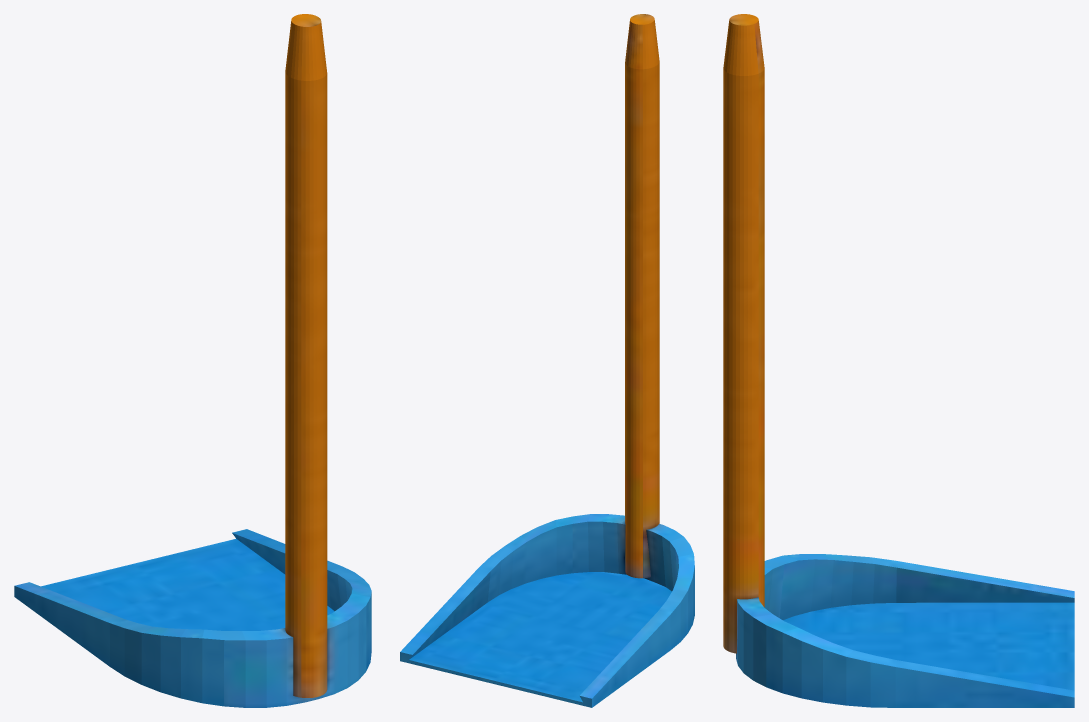
File: dustpan.fbx
The picture shows the model from 3 angles, left to right: view 1: azimuth 30°, elevation 25°; view 2: azimuth 150°, elevation 25°; view 3: azimuth 270°, elevation 25°; orthographic projection. The views are drawn at different scales.
Visible parts, largest first — view 1: dustpan; view 2: dustpan; view 3: dustpan.
Part boxes in pixels (x1,y1,x2,y2): dustpan: (14,14,371,707); dustpan: (400,14,694,707); dustpan: (723,14,1074,707).
Bounding box in the file's own units: 149 × 414 × 207.
